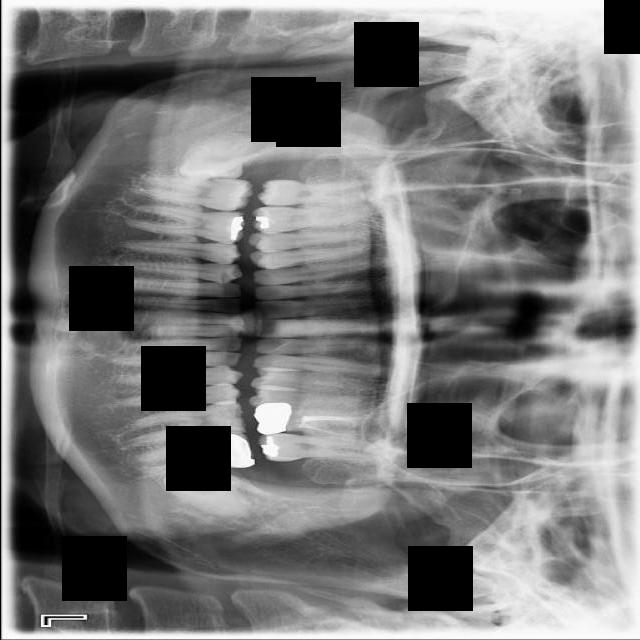52: (193, 204, 250, 247), (200, 432, 255, 470), (255, 431, 299, 463), (252, 402, 293, 435), (250, 205, 291, 236)
73: (284, 404, 376, 444), (20, 621, 28, 627)
BioHorizons Implant: (256, 432, 387, 463)
Biomet 3i Implant: (157, 451, 252, 524)
Blue Sky Bio Implant: (133, 430, 255, 478)
Caries: (255, 176, 378, 207)
Implant: (130, 175, 253, 213)
Keystone Dental Implant: (177, 129, 256, 184)
